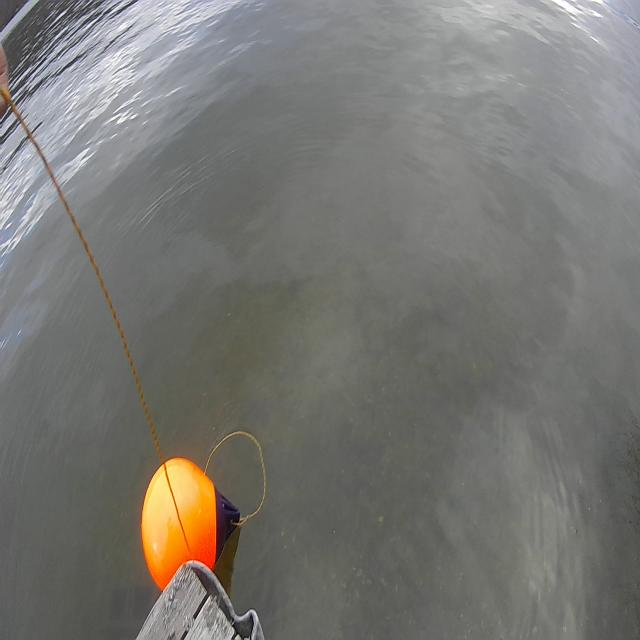Buoy: (140, 456, 218, 590)
